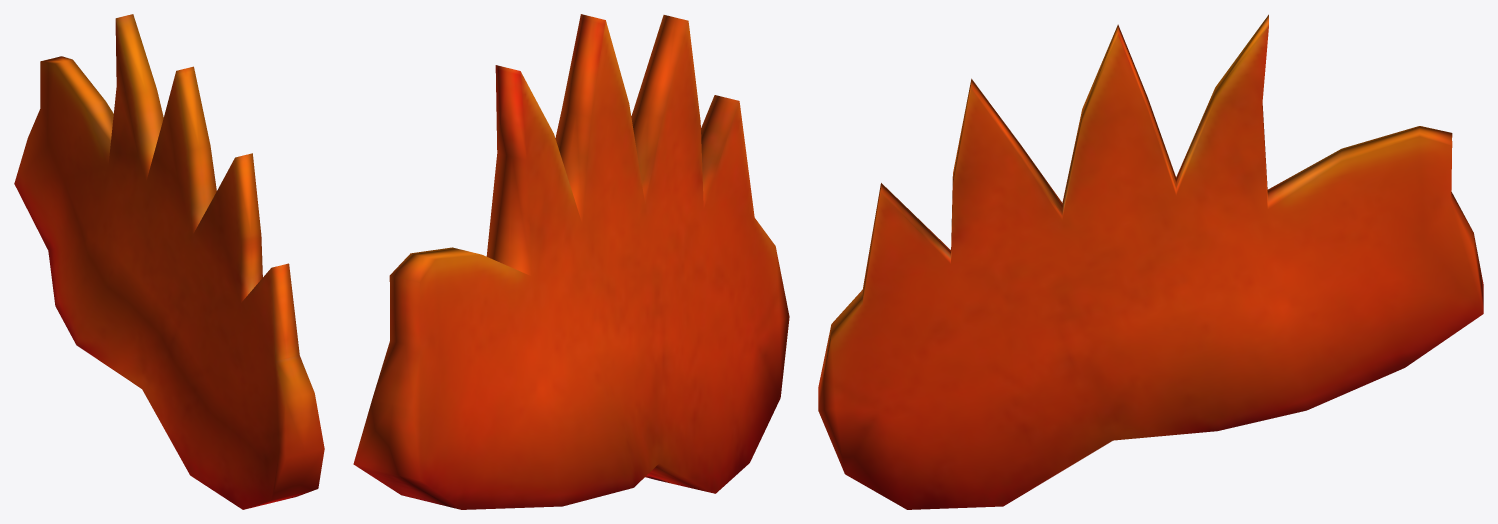
File: rooster_comb.obj
3 views of the same model, side by side, from view 1: azimuth 30°, elevation 25°; view 2: azimuth 150°, elevation 25°; view 3: azimuth 270°, elevation 25° (orthographic). The views are drawn at different scales.
Parts seen in each view (by area): view 1: obj1.063, obj1.028, obj1.034, obj1.039, obj1.030, obj1.029, obj1.037; view 2: obj1.063, obj1.032, obj1.038, obj1.035, obj1.033, obj1.036, obj1.031, obj1.029; view 3: obj1.027, obj1.029, obj1.039, obj1.033, obj1.035, obj1.036, obj1.034, obj1.028.
Part boxes in pixels (x1,y1,x2,y2): obj1.063: (14, 19, 285, 509); obj1.028: (244, 355, 324, 509); obj1.034: (176, 66, 216, 234); obj1.039: (115, 14, 163, 180); obj1.030: (235, 153, 262, 302); obj1.029: (41, 56, 113, 164); obj1.037: (271, 263, 299, 361); obj1.063: (413, 20, 789, 509); obj1.032: (353, 275, 420, 480); obj1.038: (486, 65, 531, 276); obj1.035: (555, 14, 605, 222); obj1.033: (631, 15, 688, 203); obj1.036: (701, 95, 739, 208); obj1.031: (354, 463, 714, 509); obj1.029: (390, 247, 480, 282); obj1.027: (818, 25, 1483, 509); obj1.029: (1267, 126, 1452, 209); obj1.039: (1176, 14, 1268, 194); obj1.033: (971, 78, 1062, 219); obj1.035: (1118, 24, 1176, 195); obj1.036: (881, 183, 950, 263); obj1.034: (1062, 25, 1117, 219); obj1.028: (818, 290, 862, 409).
Size of the model in its own units: 15.52 by 41.1 by 52.25.
Materials: 1 (1 with a texture image).
